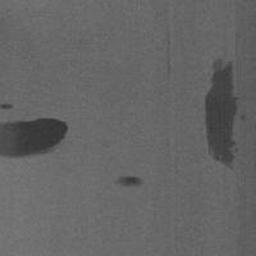Oil spot: (204, 56, 247, 172), (0, 115, 70, 160), (111, 174, 146, 189), (0, 102, 15, 110)
